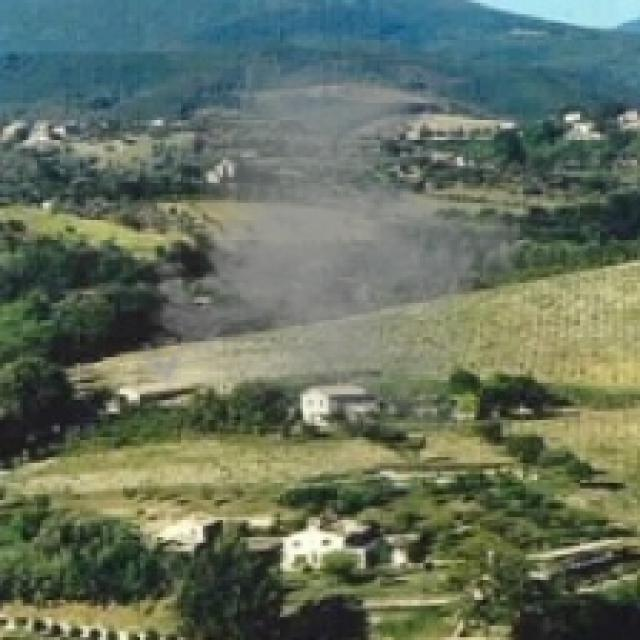Smoke: (125, 52, 540, 434)
